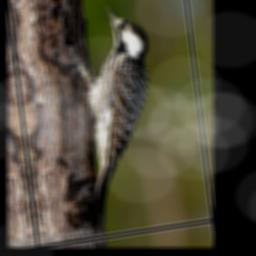Woodpecker: (54, 0, 170, 232)
